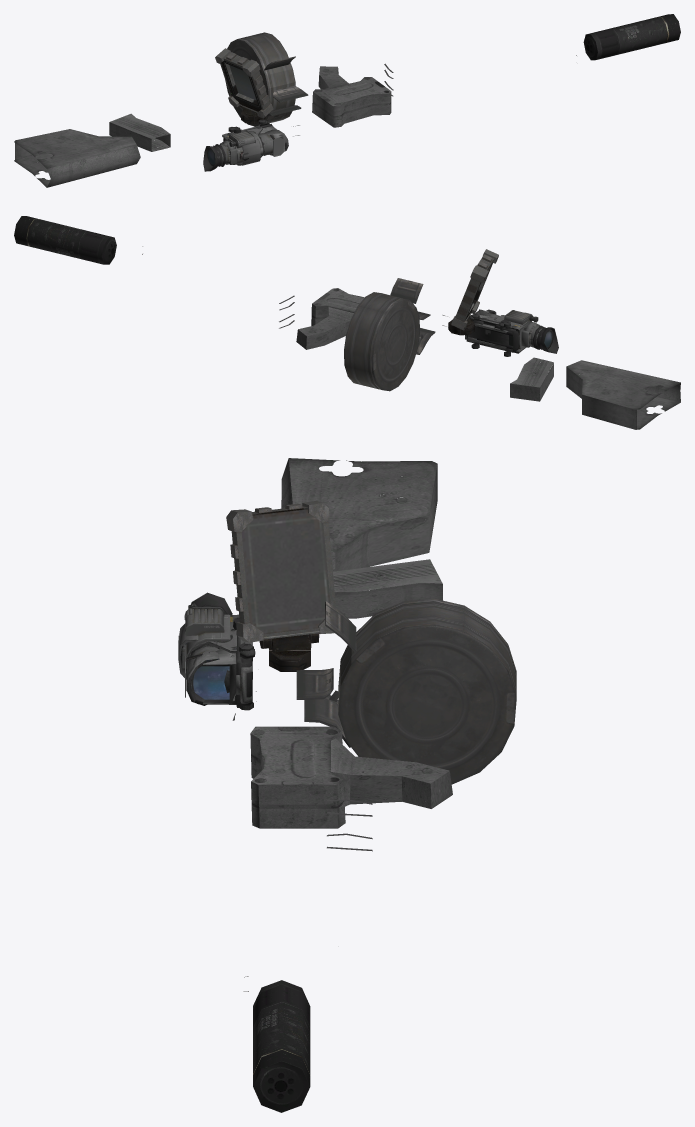
Rendered from weapon_rpd_LOD0.obj.
3 renders of one model, top to bottom at view 1: azimuth 30°, elevation 25°; view 2: azimuth 150°, elevation 25°; view 3: azimuth 270°, elevation 25°, orthographic. The views are drawn at different scales.
Parts seen in each view (by area): view 1: mtl_weapon_rpd, mtl_weapon_rpd_mag, mtl_weapon_suppressor_b, mtl_weapon_motion_tracker, mtl_weapon_thermal_sight_2, mtl_weapon_acog_2, mtl_weapon_eotech_2, mtl_weapon_rpd_foregrip, mtl_weapon_red_dot_sight; view 2: mtl_weapon_rpd, mtl_weapon_rpd_mag, mtl_weapon_suppressor_b, mtl_weapon_motion_tracker, mtl_weapon_rpd_foregrip, mtl_weapon_acog_2, mtl_weapon_thermal_sight_2, mtl_weapon_red_dot_sight, mtl_weapon_eotech_2; view 3: mtl_weapon_rpd, mtl_weapon_rpd_mag, mtl_weapon_motion_tracker, mtl_weapon_suppressor_b, mtl_weapon_rpd_foregrip, mtl_weapon_thermal_sight_2, mtl_weapon_red_dot_sight, mtl_weapon_acog_2, mtl_weapon_reflex_lens.
Part boxes in pixels (x1,y1,x2,y2): mtl_weapon_rpd: (14,55,576,187); mtl_weapon_rpd_mag: (225,32,295,126); mtl_weapon_suppressor_b: (583,14,680,60); mtl_weapon_motion_tracker: (215,48,273,123); mtl_weapon_thermal_sight_2: (203,127,284,171); mtl_weapon_acog_2: (207,120,288,166); mtl_weapon_eotech_2: (222,125,262,165); mtl_weapon_rpd_foregrip: (318,66,348,97); mtl_weapon_red_dot_sight: (223,119,282,141); mtl_weapon_rpd: (142,246,680,429); mtl_weapon_rpd_mag: (344,278,423,391); mtl_weapon_suppressor_b: (14,216,116,264); mtl_weapon_motion_tracker: (448,249,498,335); mtl_weapon_rpd_foregrip: (296,307,353,349); mtl_weapon_acog_2: (465,309,553,349); mtl_weapon_thermal_sight_2: (486,309,558,353); mtl_weapon_red_dot_sight: (466,309,518,356); mtl_weapon_eotech_2: (477,317,523,353); mtl_weapon_rpd: (232,458,442,991); mtl_weapon_rpd_mag: (325,598,516,784); mtl_weapon_motion_tracker: (226,500,335,671); mtl_weapon_suppressor_b: (253,980,310,1112); mtl_weapon_rpd_foregrip: (330,733,452,808); mtl_weapon_thermal_sight_2: (182,592,239,697); mtl_weapon_red_dot_sight: (191,617,253,710); mtl_weapon_acog_2: (178,636,255,705); mtl_weapon_reflex_lens: (193,666,229,699).
Size of the model in its own units: 115 by 19.05 by 26.89.
